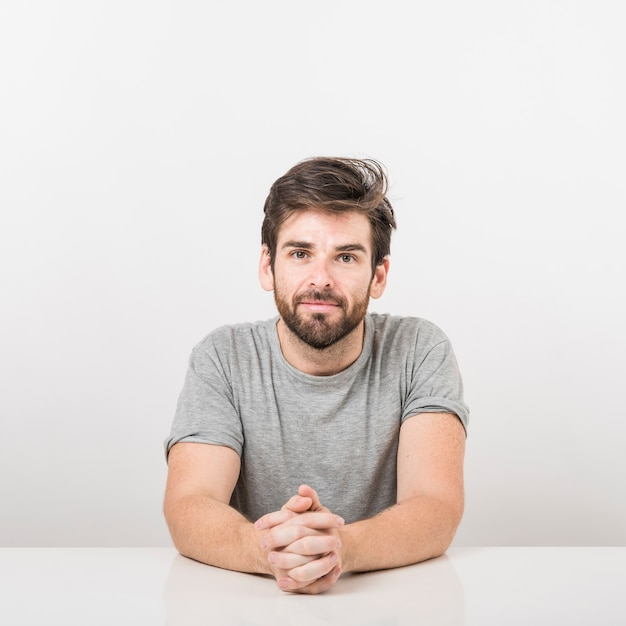young: (252, 145, 395, 343)
